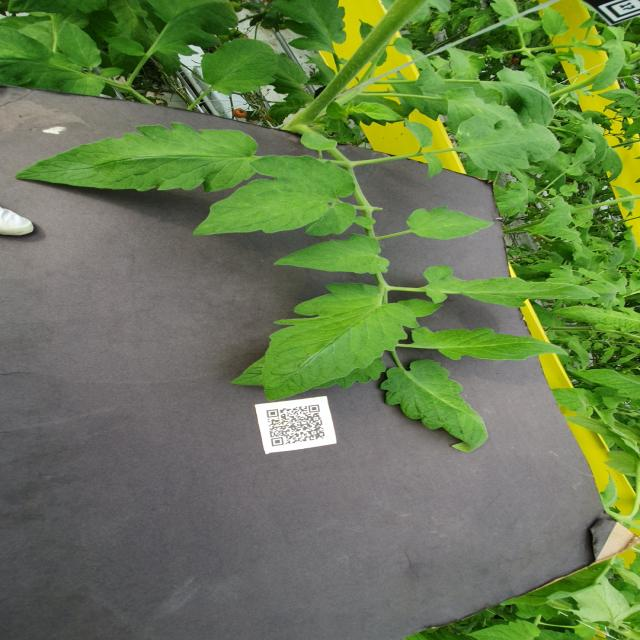Healthy Leaf: (261, 283, 421, 403), (18, 122, 262, 197), (192, 155, 358, 237), (382, 360, 496, 455), (419, 266, 602, 309), (458, 118, 566, 175), (274, 232, 395, 280), (412, 326, 573, 362), (202, 38, 281, 95), (271, 1, 348, 53), (402, 207, 501, 243), (56, 21, 105, 71), (466, 618, 543, 640), (552, 388, 604, 419), (405, 118, 436, 149), (102, 37, 148, 57), (543, 7, 572, 37), (421, 154, 444, 180)
